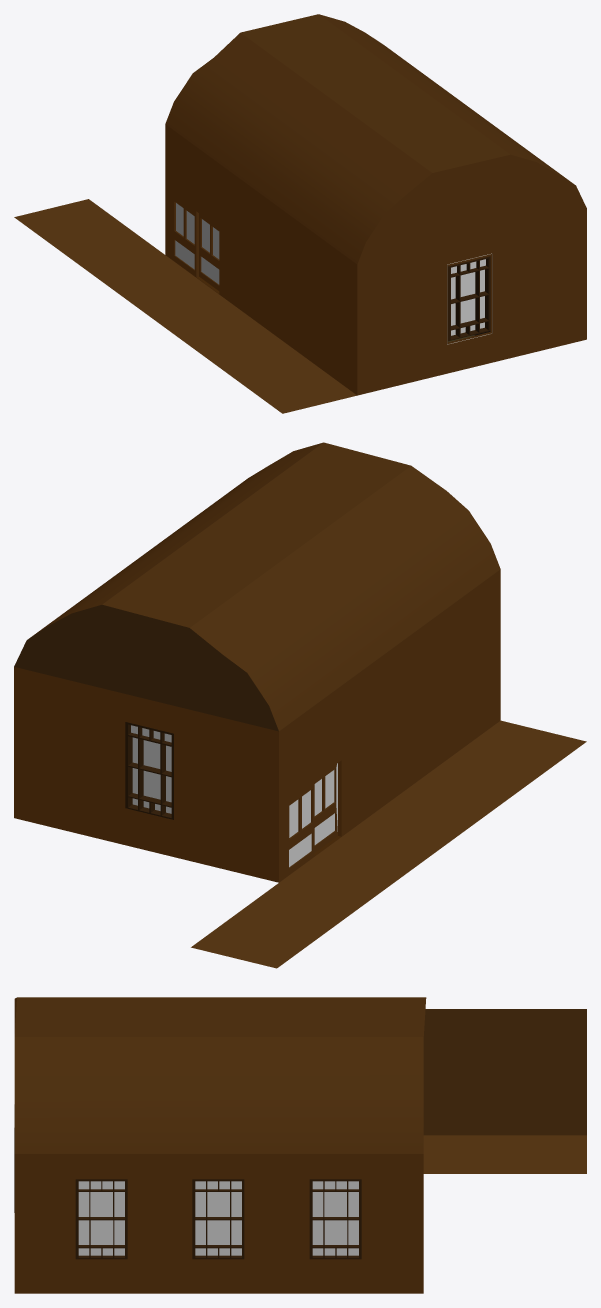
Rendered from 暗貴賓室2.fbx.
The picture shows the model from 3 angles, top to bottom: view 1: azimuth 30°, elevation 25°; view 2: azimuth 150°, elevation 25°; view 3: azimuth 270°, elevation 25°; orthographic projection. The views are drawn at different scales.
Visible parts, largest first — view 1: 平面, 立方体.004, 立方体.002, 立方体.012, 立方体.013, 立方体.003; view 2: 平面, 立方体, 立方体.011, 立方体.002, 立方体.012, 立方体.013, 立方体.003; view 3: 平面, 立方体.008, 立方体.009, 立方体.010.
Boxes of the visible parts, <box> form: 平面: <box>14,14,586,413</box>; 立方体.004: <box>447,253,492,344</box>; 立方体.002: <box>173,194,198,277</box>; 立方体.012: <box>175,203,194,269</box>; 立方体.013: <box>201,219,219,284</box>; 立方体.003: <box>199,213,219,290</box>; 平面: <box>14,442,586,968</box>; 立方体: <box>125,722,173,819</box>; 立方体.011: <box>131,725,171,813</box>; 立方体.002: <box>287,780,314,875</box>; 立方体.012: <box>289,790,311,867</box>; 立方体.013: <box>314,770,334,844</box>; 立方体.003: <box>314,764,337,852</box>; 平面: <box>14,997,586,1293</box>; 立方体.008: <box>192,1179,244,1259</box>; 立方体.009: <box>75,1179,127,1259</box>; 立方体.010: <box>309,1179,361,1259</box>.
Bounding box in the file's own units: 9911 × 6379 × 15164.
